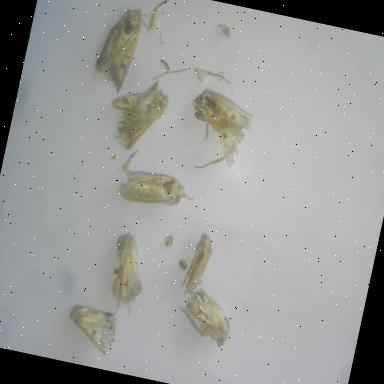abw: (178, 83, 260, 172), (87, 0, 156, 98), (99, 72, 175, 160), (98, 228, 158, 320), (168, 284, 241, 350), (114, 162, 198, 219), (58, 298, 124, 362), (174, 225, 222, 304)
